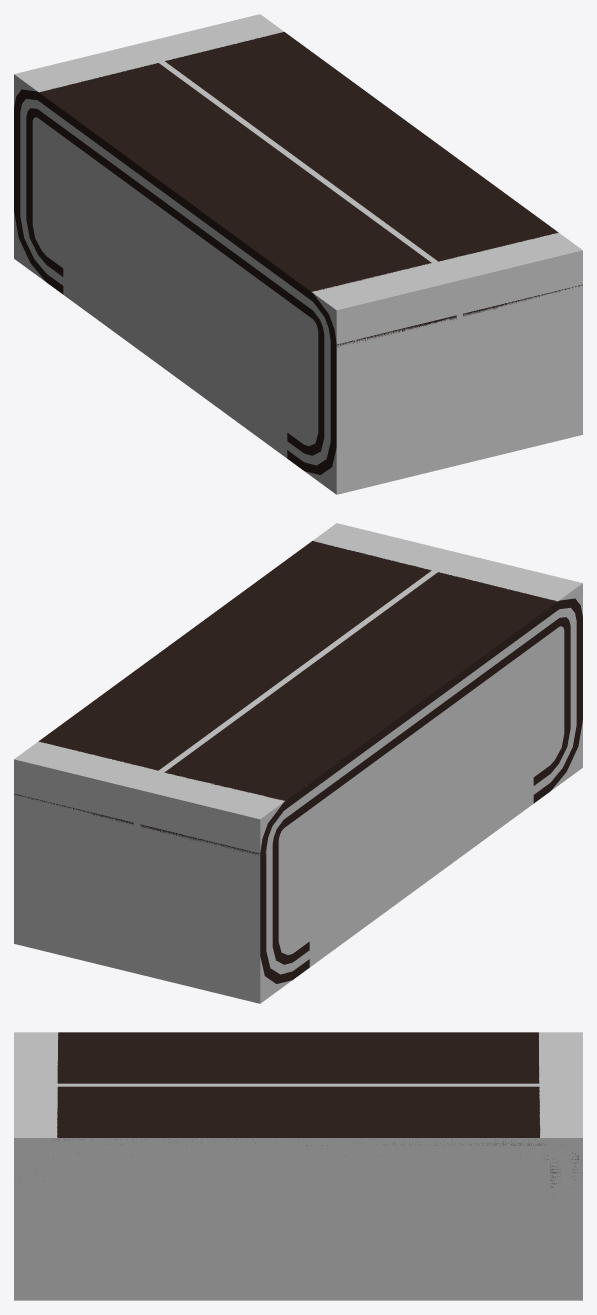
Rendered from SM_Table_02.fbx.
The picture shows the model from 3 angles, top to bottom: view 1: azimuth 30°, elevation 25°; view 2: azimuth 150°, elevation 25°; view 3: azimuth 270°, elevation 25°; orthographic projection. The views are drawn at different scales.
Parts seen in each view (by area): view 1: SM_Table_02_ConvexHulls, SM_Table_02; view 2: SM_Table_02_ConvexHulls, SM_Table_02; view 3: SM_Table_02_ConvexHulls, SM_Table_02.
Boxes of the visible parts, bbox=[...] form: SM_Table_02_ConvexHulls: bbox=[14, 14, 582, 494]; SM_Table_02: bbox=[14, 32, 582, 474]; SM_Table_02_ConvexHulls: bbox=[14, 523, 582, 1003]; SM_Table_02: bbox=[14, 541, 582, 983]; SM_Table_02_ConvexHulls: bbox=[14, 1032, 582, 1300]; SM_Table_02: bbox=[57, 1032, 580, 1187].
Bounding box in the file's own units: 118 × 268 × 84.59.
2 materials, 1 textured.
